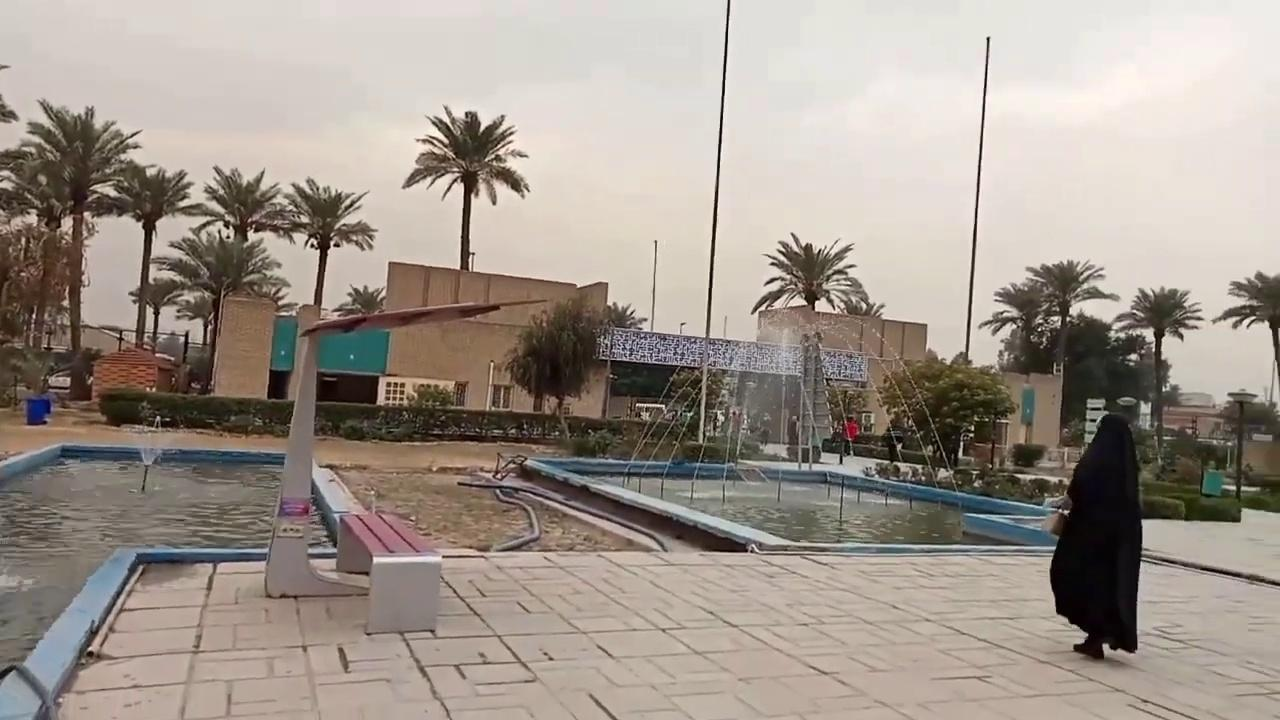fountain: (476, 1, 1067, 554), (0, 294, 543, 714), (478, 324, 1067, 554), (0, 438, 374, 676), (477, 449, 1067, 554)
person: (1048, 412, 1143, 659), (842, 414, 859, 456)
tree: (10, 97, 143, 399), (749, 231, 872, 450), (150, 227, 288, 393), (401, 103, 530, 271), (501, 296, 645, 436), (100, 161, 199, 351), (1024, 257, 1118, 445), (1111, 285, 1204, 469), (873, 357, 1016, 466), (263, 175, 377, 310), (0, 208, 76, 396), (186, 163, 286, 301), (749, 231, 869, 315), (1211, 268, 1279, 407), (589, 300, 648, 418), (979, 279, 1049, 373), (665, 364, 730, 442), (127, 274, 186, 351), (823, 383, 868, 456), (841, 275, 885, 317), (333, 283, 385, 315), (596, 300, 647, 331)
